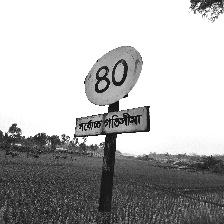Speed-limit: (76, 45, 149, 137)
